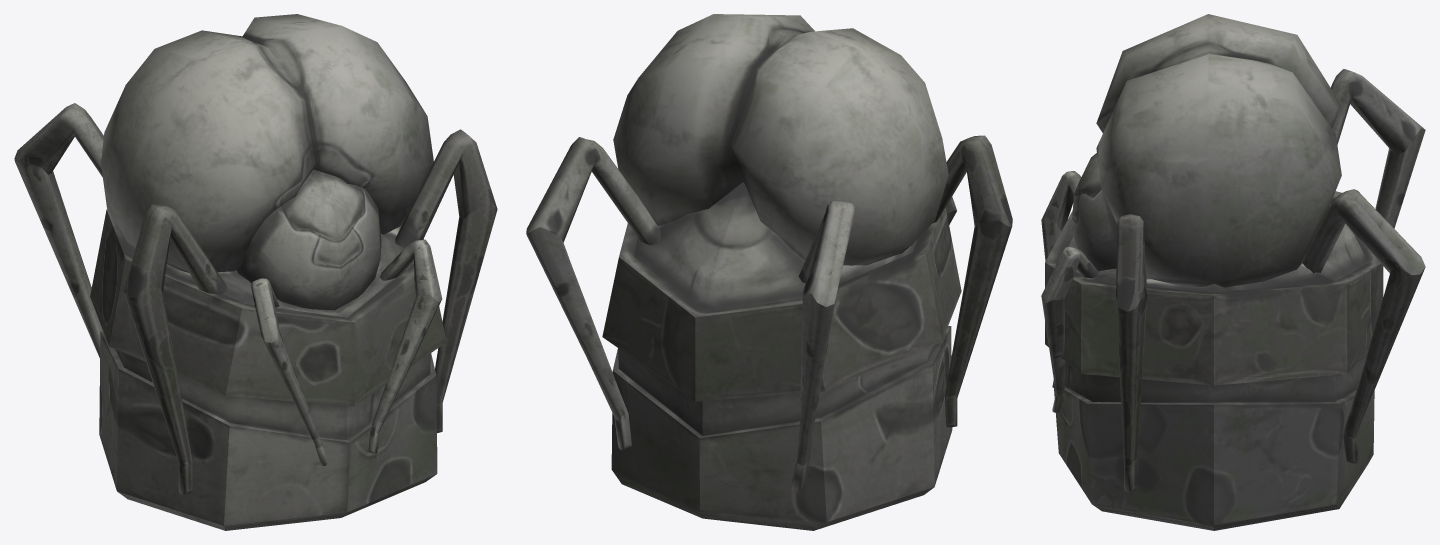
File: 3_Estatua.fbx
3 renders of one model, left to right at view 1: azimuth 30°, elevation 25°; view 2: azimuth 150°, elevation 25°; view 3: azimuth 270°, elevation 25°, orthographic. The views are drawn at different scales.
Parts seen in each view (by area): view 1: 3_Base; view 2: 3_Base; view 3: 3_Base.
Part boxes in pixels (x1,y1,x2,y2): 3_Base: [14, 14, 497, 530]; 3_Base: [526, 14, 1012, 530]; 3_Base: [1041, 14, 1425, 530].
Size of the model in its own units: 138 by 153 by 126.
